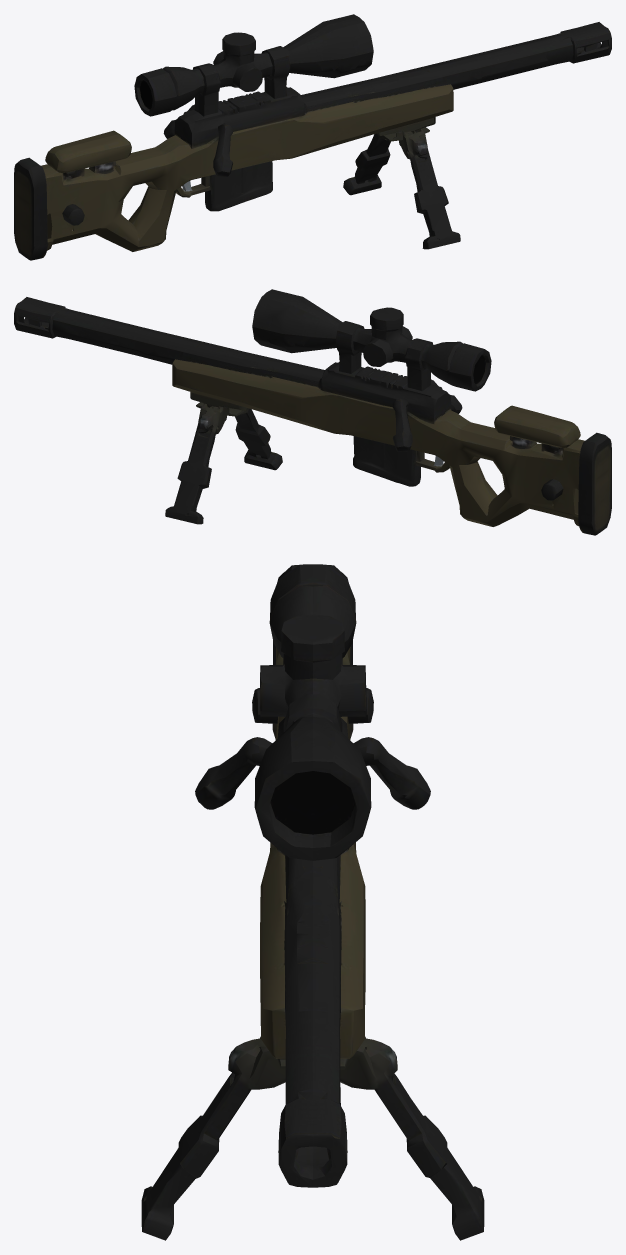
Rendered from bolt_action_sniper_rifle_low.glb.
The picture shows the model from 3 angles, top to bottom: view 1: azimuth 30°, elevation 25°; view 2: azimuth 150°, elevation 25°; view 3: azimuth 270°, elevation 25°; orthographic projection. The views are drawn at different scales.
Visible parts, largest first — view 1: world; view 2: world; view 3: world.
Part boxes in pixels (x1,y1,x2,y2): world: (14, 14, 611, 260); world: (14, 289, 611, 535); world: (141, 564, 484, 1240).
Bounding box in the file's own units: 1 × 0.3621 × 0.2562.
1 material, 1 textured.
